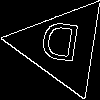D: (37, 21, 82, 72)
